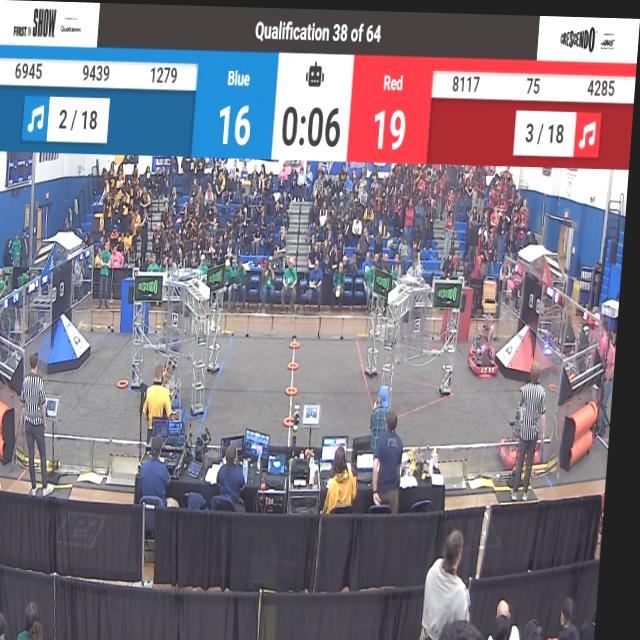Robot: (501, 370, 554, 466), (472, 315, 507, 378), (471, 297, 506, 357), (154, 304, 195, 355), (174, 387, 203, 434), (176, 359, 197, 416)
